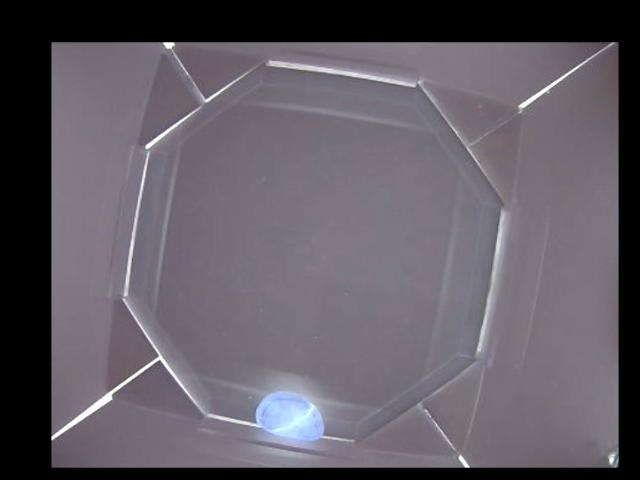Pebble: (250, 394, 324, 444)
